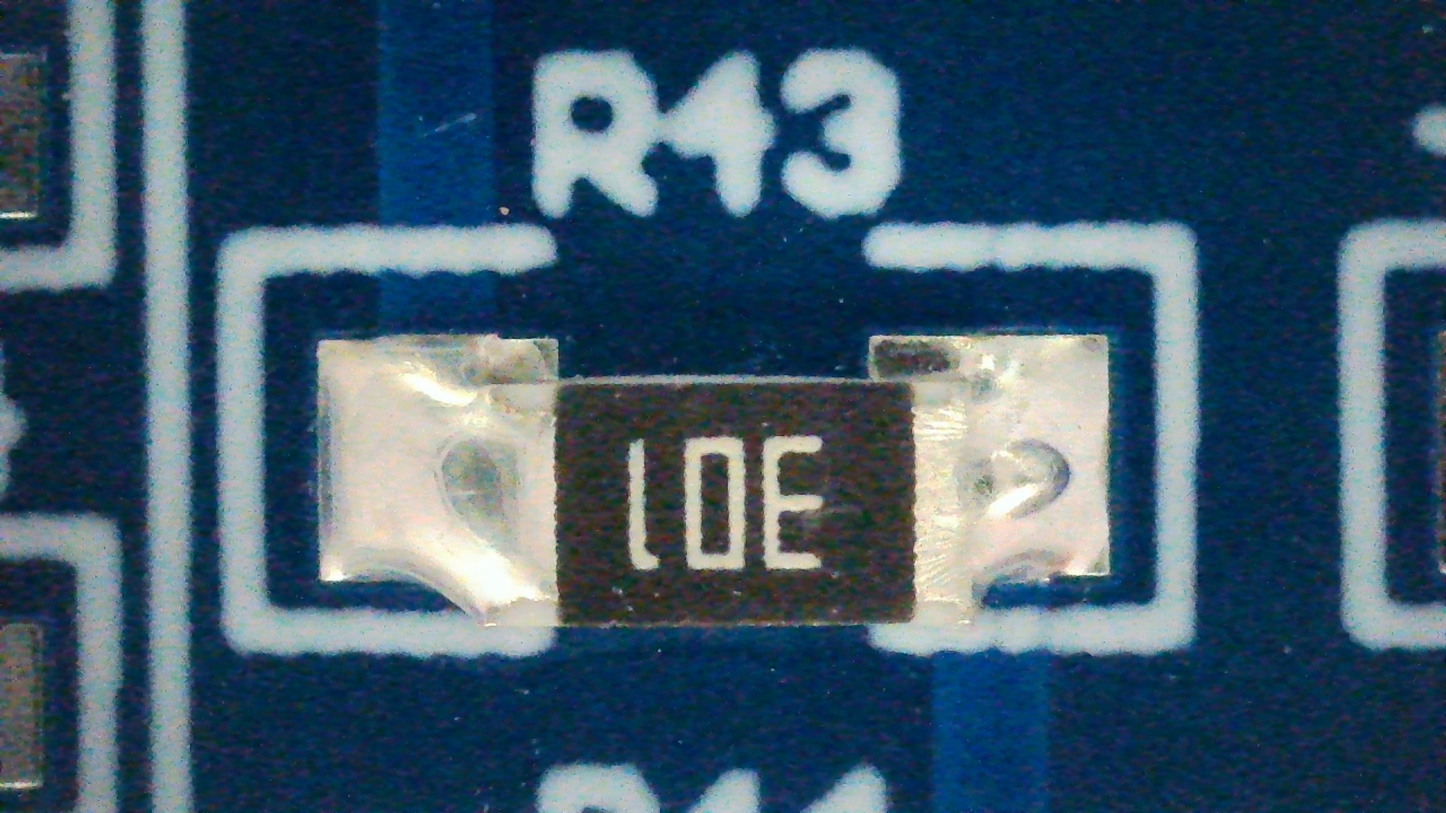NG: (318, 335, 1110, 627)
